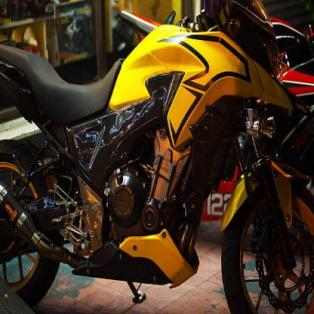Motocicleta: (3, 0, 313, 313)
